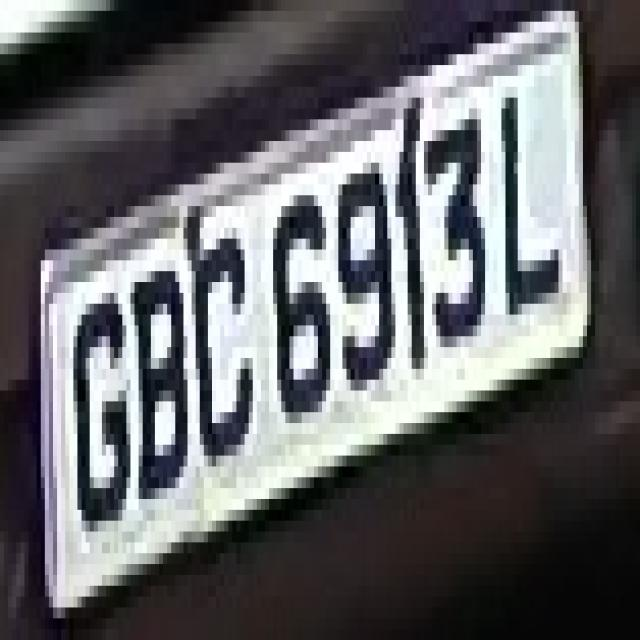1: (391, 120, 432, 402)
3: (424, 86, 493, 380)
6: (265, 152, 330, 445)
9: (326, 141, 396, 423)
B: (126, 239, 196, 542)
C: (183, 206, 253, 499)
G: (61, 282, 135, 553)
L: (489, 65, 567, 315)
